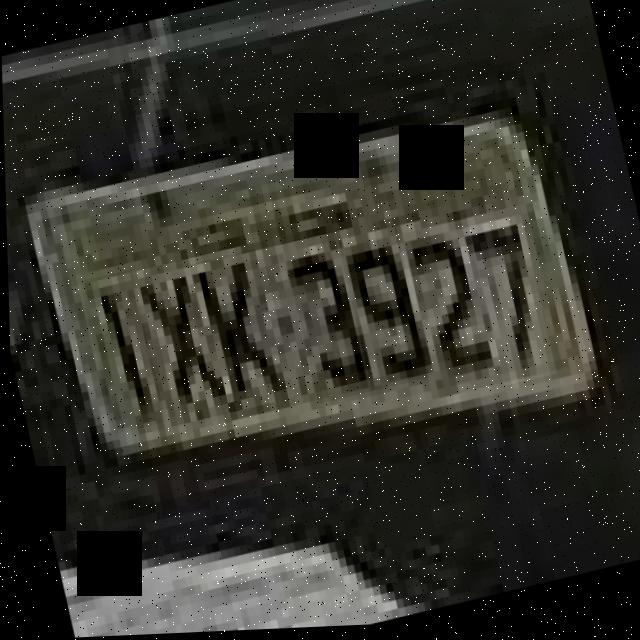3: (281, 232, 373, 408)
7: (464, 208, 554, 391)
9: (336, 228, 428, 395)
I: (78, 269, 164, 436)
K: (188, 250, 289, 426)
X: (128, 263, 223, 434)
